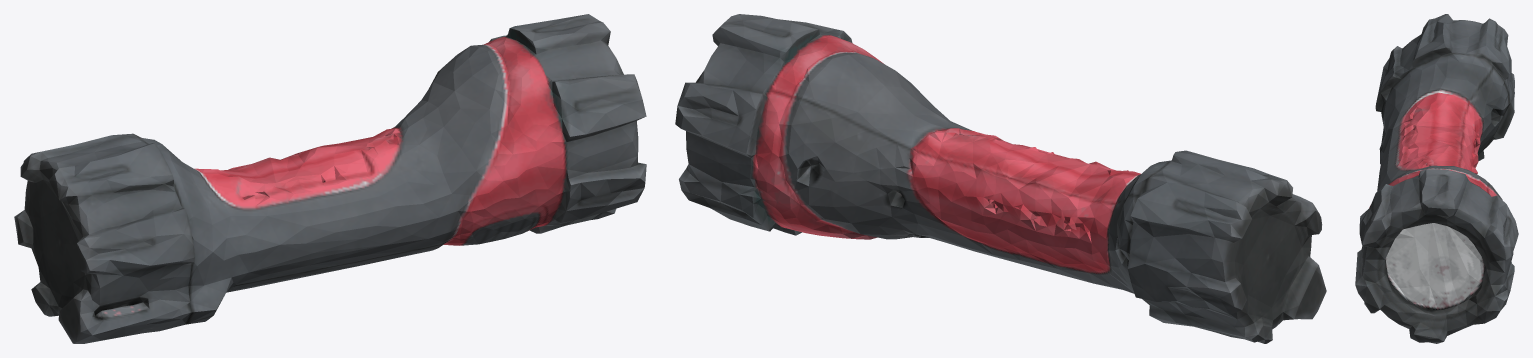
The picture shows the model from 3 angles, left to right: view 1: azimuth 30°, elevation 25°; view 2: azimuth 150°, elevation 25°; view 3: azimuth 270°, elevation 25°; orthographic projection. The views are drawn at different scales.
Bounding box in the file's own units: 0.2324 × 0.0759 × 0.0755.
1 material, 1 textured.
